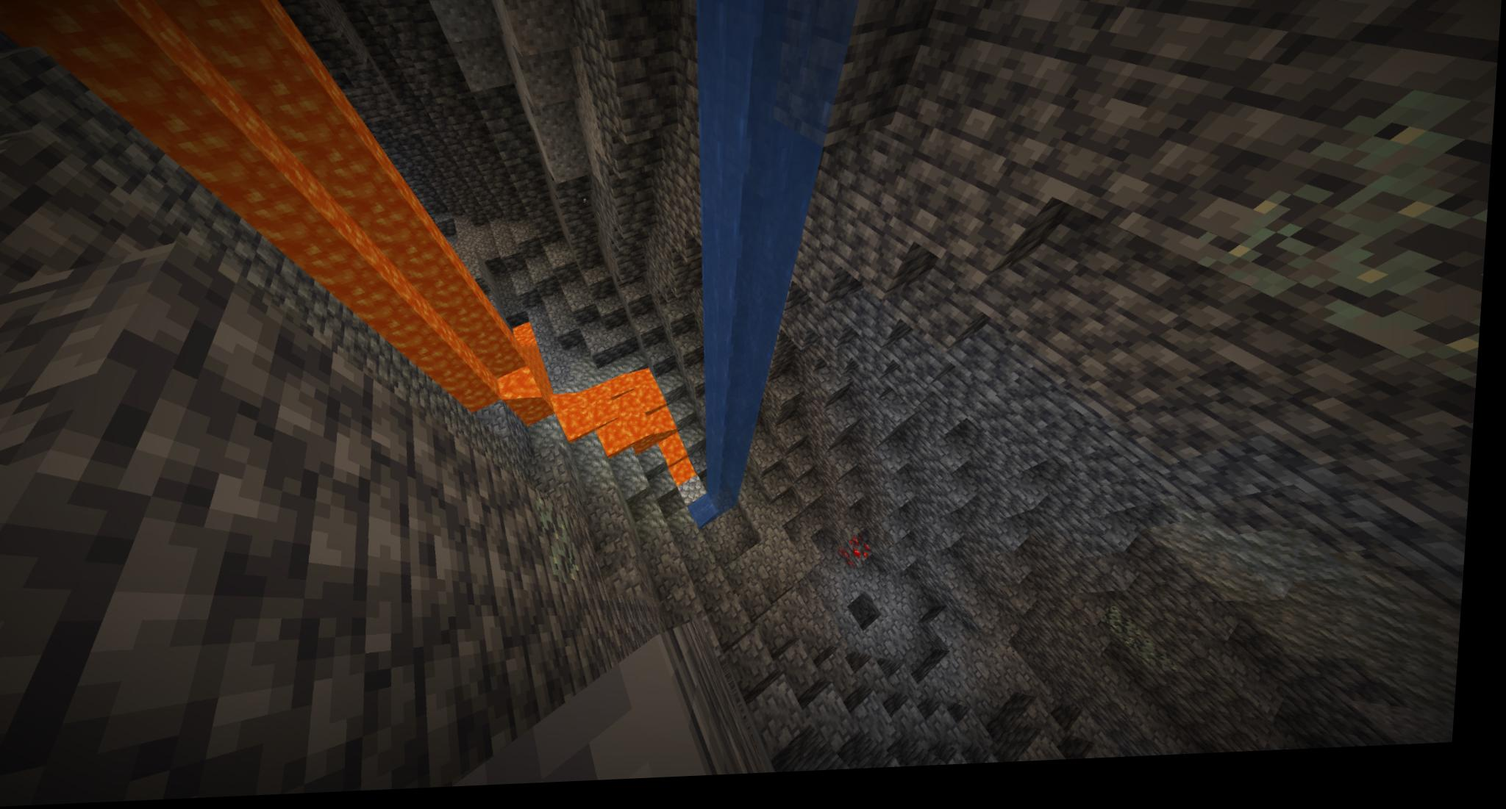redstone ore: (844, 542, 885, 577)
